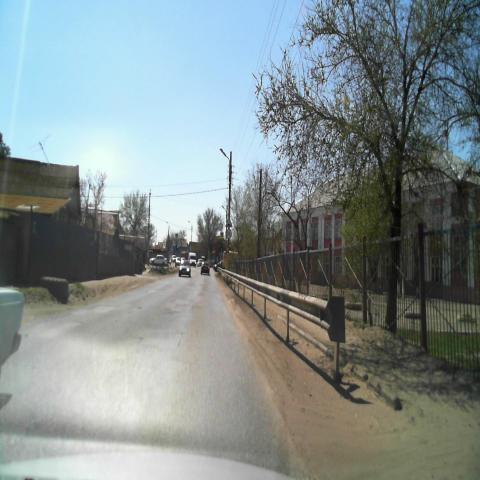1_17: (225, 215, 233, 228)
3_24: (226, 228, 232, 240)
